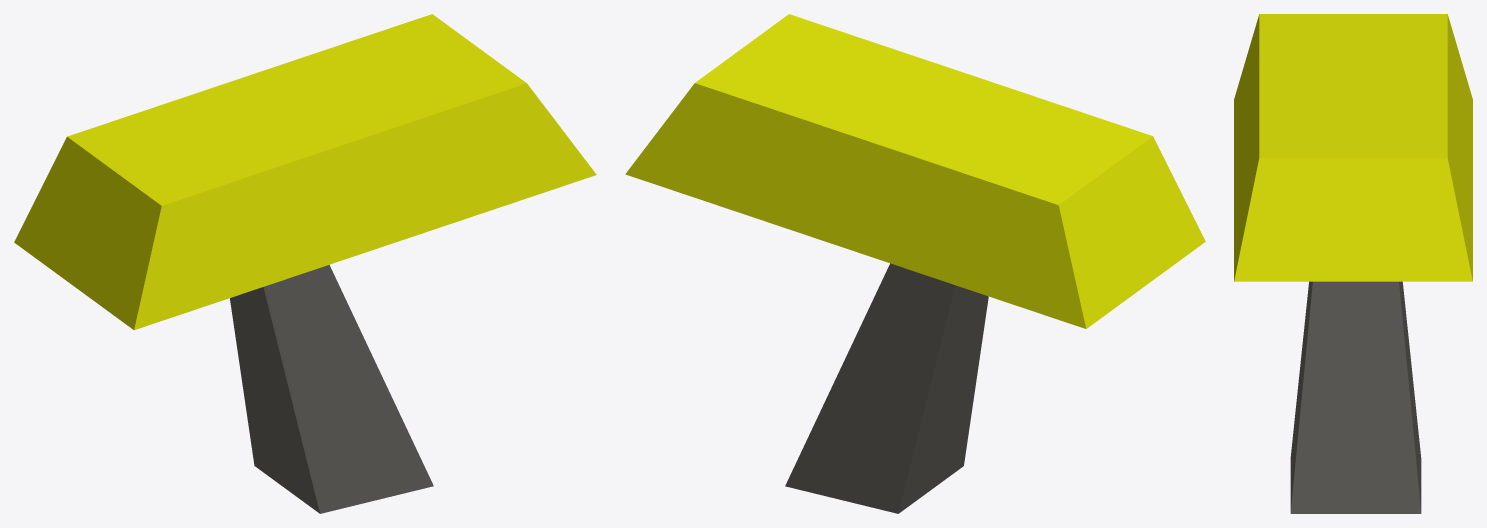
Rendered from Yslitonya.fbx.
3 views of the same model, side by side, from view 1: azimuth 30°, elevation 25°; view 2: azimuth 150°, elevation 25°; view 3: azimuth 270°, elevation 25° (orthographic).
Parts seen in each view (by area): view 1: Cube.001, Cube; view 2: Cube.001, Cube; view 3: Cube.001, Cube.
Boxes of the visible parts, x1=… form: Cube.001: x1=14, y1=14, x2=596, y2=330; Cube: x1=230, y1=265, x2=433, y2=513; Cube.001: x1=625, y1=14, x2=1205, y2=328; Cube: x1=785, y1=263, x2=988, y2=513; Cube.001: x1=1234, y1=14, x2=1472, y2=281; Cube: x1=1290, y1=281, x2=1421, y2=513.
Bounding box in the file's own units: 206 × 168 × 92.28.
